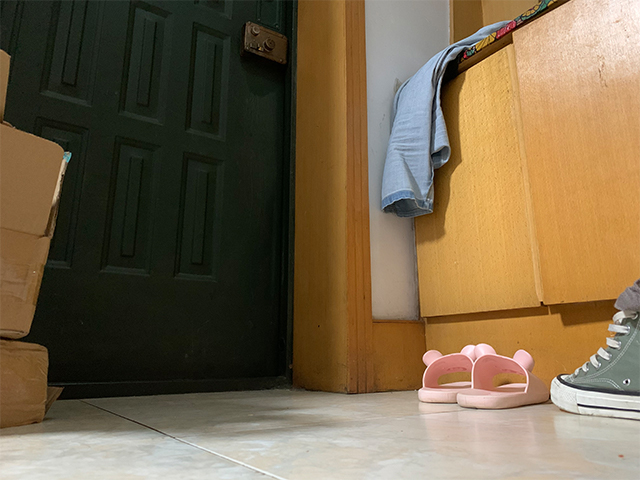cabinet: (411, 1, 640, 398)
slippers: (456, 339, 547, 410), (415, 341, 478, 405)
